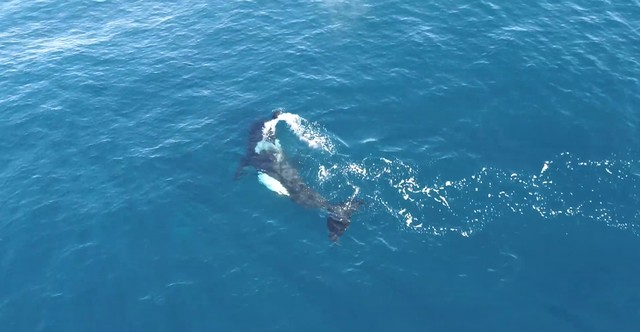whale: (227, 106, 371, 247)
